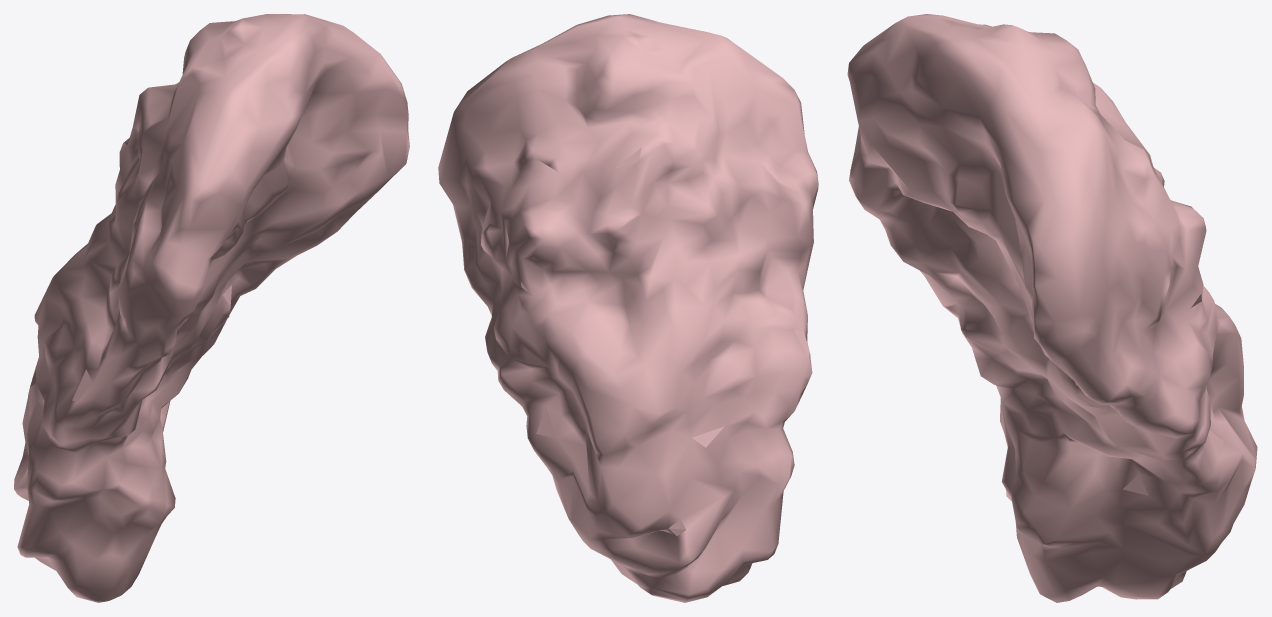
Rendered from 3d-vh-f-palatine-tonsil-r.glb.
3 renders of one model, left to right at view 1: azimuth 30°, elevation 25°; view 2: azimuth 150°, elevation 25°; view 3: azimuth 270°, elevation 25°, orthographic. The views are drawn at different scales.
Parts seen in each view (by area): view 1: VH_F_palatine_tonsil_R; view 2: VH_F_palatine_tonsil_R; view 3: VH_F_palatine_tonsil_R.
Part boxes in pixels (x1,y1,x2,y2): VH_F_palatine_tonsil_R: [14, 14, 409, 602]; VH_F_palatine_tonsil_R: [438, 14, 818, 602]; VH_F_palatine_tonsil_R: [847, 14, 1257, 602].
Size of the model in its own units: 0.0168 by 0.0239 by 0.0139.
